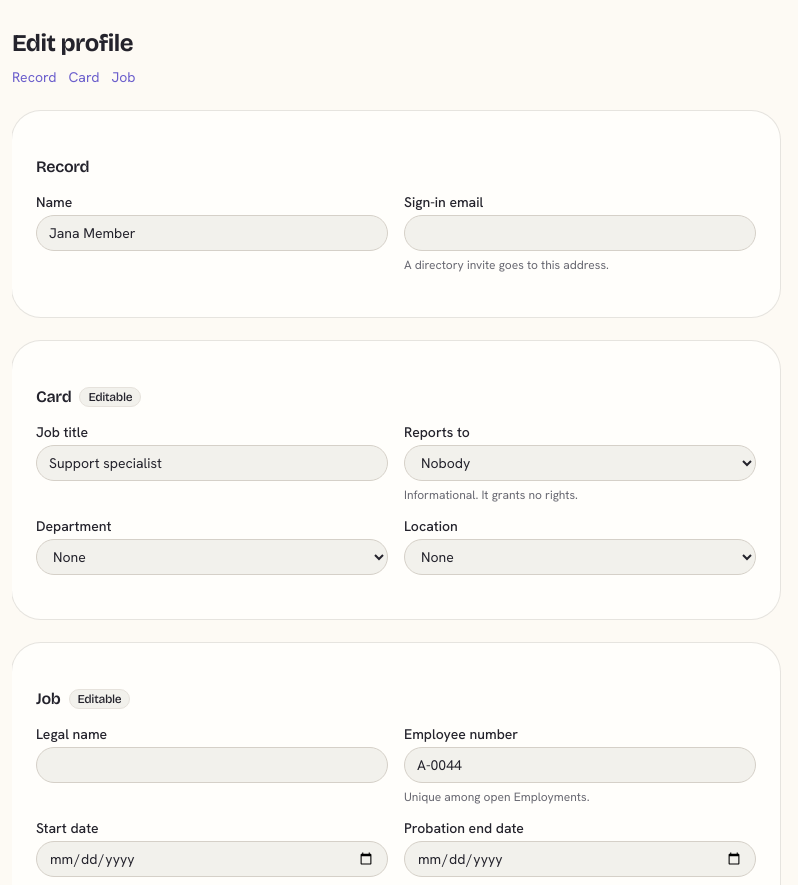
ProfileEditScreen › the sign-in email of a person without an account › refuses an address that isn't one before saving
The image size is (798, 885).
Type "not-an-email" into the field labelled "Sign-in email" at (580, 233), box top-left (404, 215), bottom-right (756, 251)
(page scrolled)
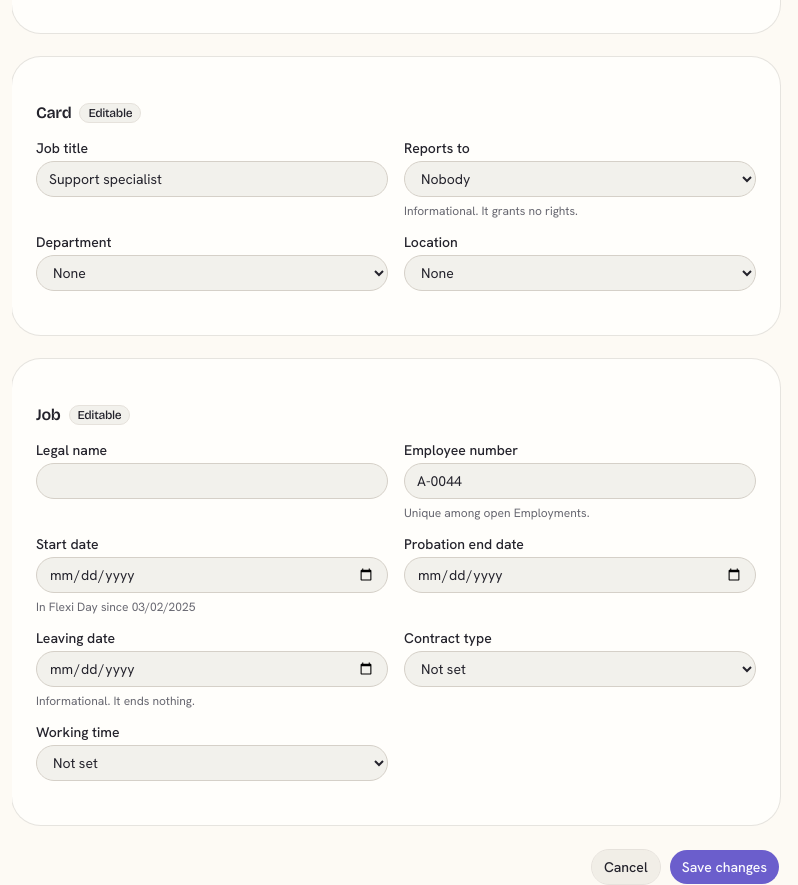
Click the button "Save changes" at (724, 867), box top-left (669, 849), bottom-right (780, 884)
(page scrolled)
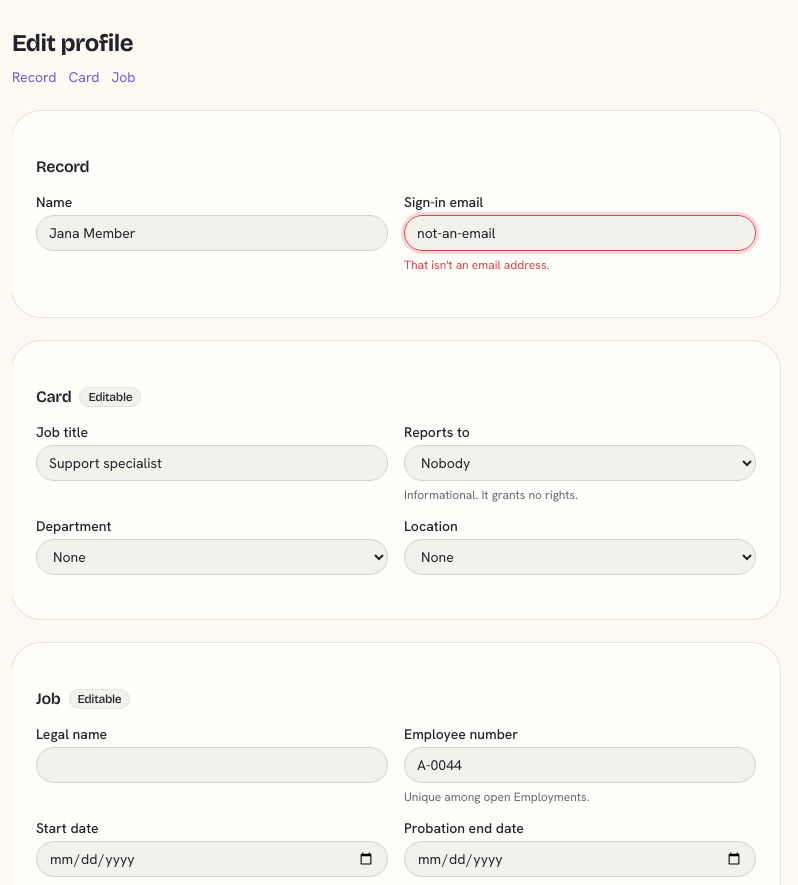
Expected: the text "That isn't an email address." is shown, top-left (404, 257), bottom-right (550, 273)
